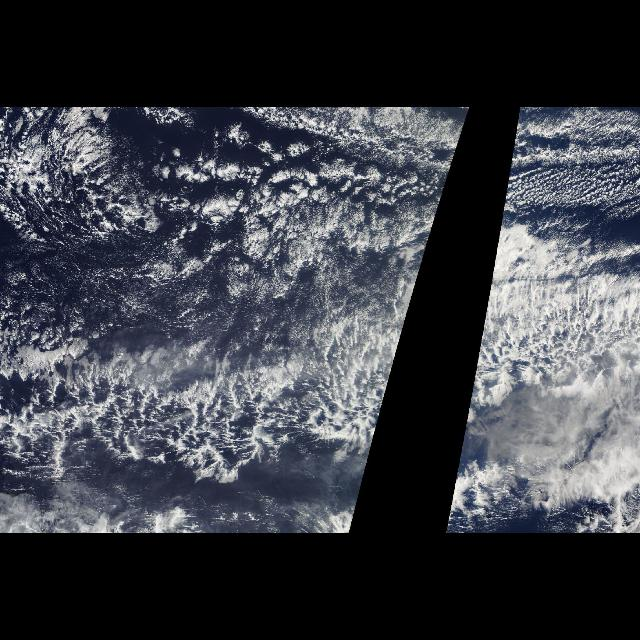Fish: (0, 310, 402, 488), (470, 262, 640, 412)
Gravel: (2, 136, 160, 236)
Sugar: (12, 110, 424, 314), (497, 108, 637, 230)
